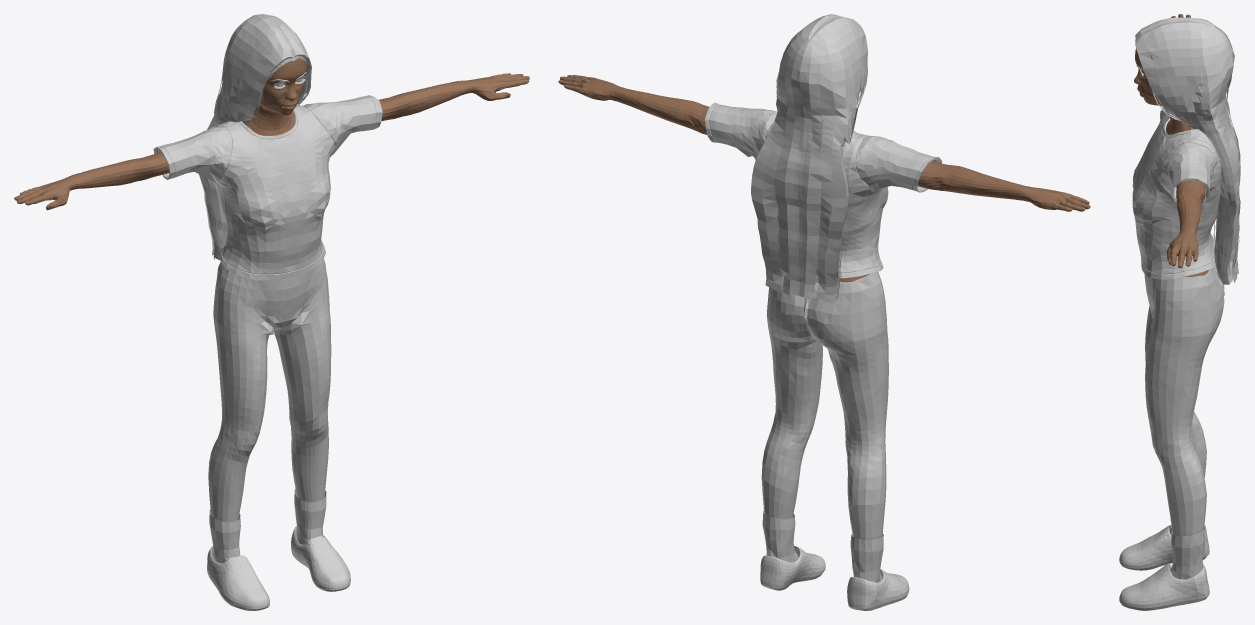
File: yulia.obj
3 renders of one model, left to right at view 1: azimuth 30°, elevation 25°; view 2: azimuth 150°, elevation 25°; view 3: azimuth 270°, elevation 25°, orthographic. The views are drawn at different scales.
Parts seen in each view (by area): view 1: costume_leggings.obj, short_tail_camo_tee.obj, base.obj, long01.obj, shoes05.obj; view 2: long01.obj, costume_leggings.obj, short_tail_camo_tee.obj, base.obj, shoes05.obj; view 3: costume_leggings.obj, long01.obj, short_tail_camo_tee.obj, shoes05.obj, base.obj.
Part boxes in pixels (<box>): costume_leggings.obj: <box>208,258,331,522</box>; short_tail_camo_tee.obj: <box>153,95,382,280</box>; base.obj: <box>14,58,529,210</box>; long01.obj: <box>199,14,311,259</box>; shoes05.obj: <box>207,488,350,610</box>; long01.obj: <box>751,14,867,302</box>; costume_leggings.obj: <box>761,271,888,539</box>; short_tail_camo_tee.obj: <box>705,102,942,278</box>; base.obj: <box>558,75,1090,282</box>; shoes05.obj: <box>760,510,909,610</box>; costume_leggings.obj: <box>1144,264,1224,536</box>; long01.obj: <box>1135,17,1240,284</box>; short_tail_camo_tee.obj: <box>1132,107,1221,279</box>; shoes05.obj: <box>1119,525,1209,610</box>; base.obj: <box>1134,14,1208,276</box>.
Bounding box in the file's own units: 13.25 × 13.83 × 2.69.
